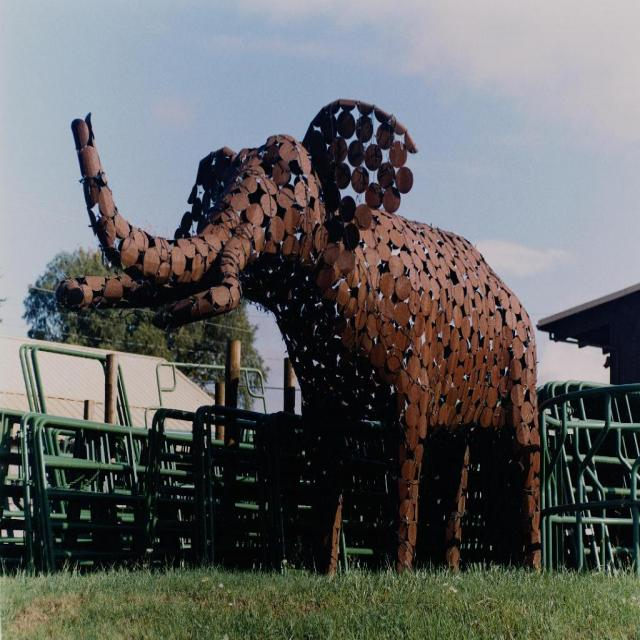elephant: (57, 107, 556, 579)
